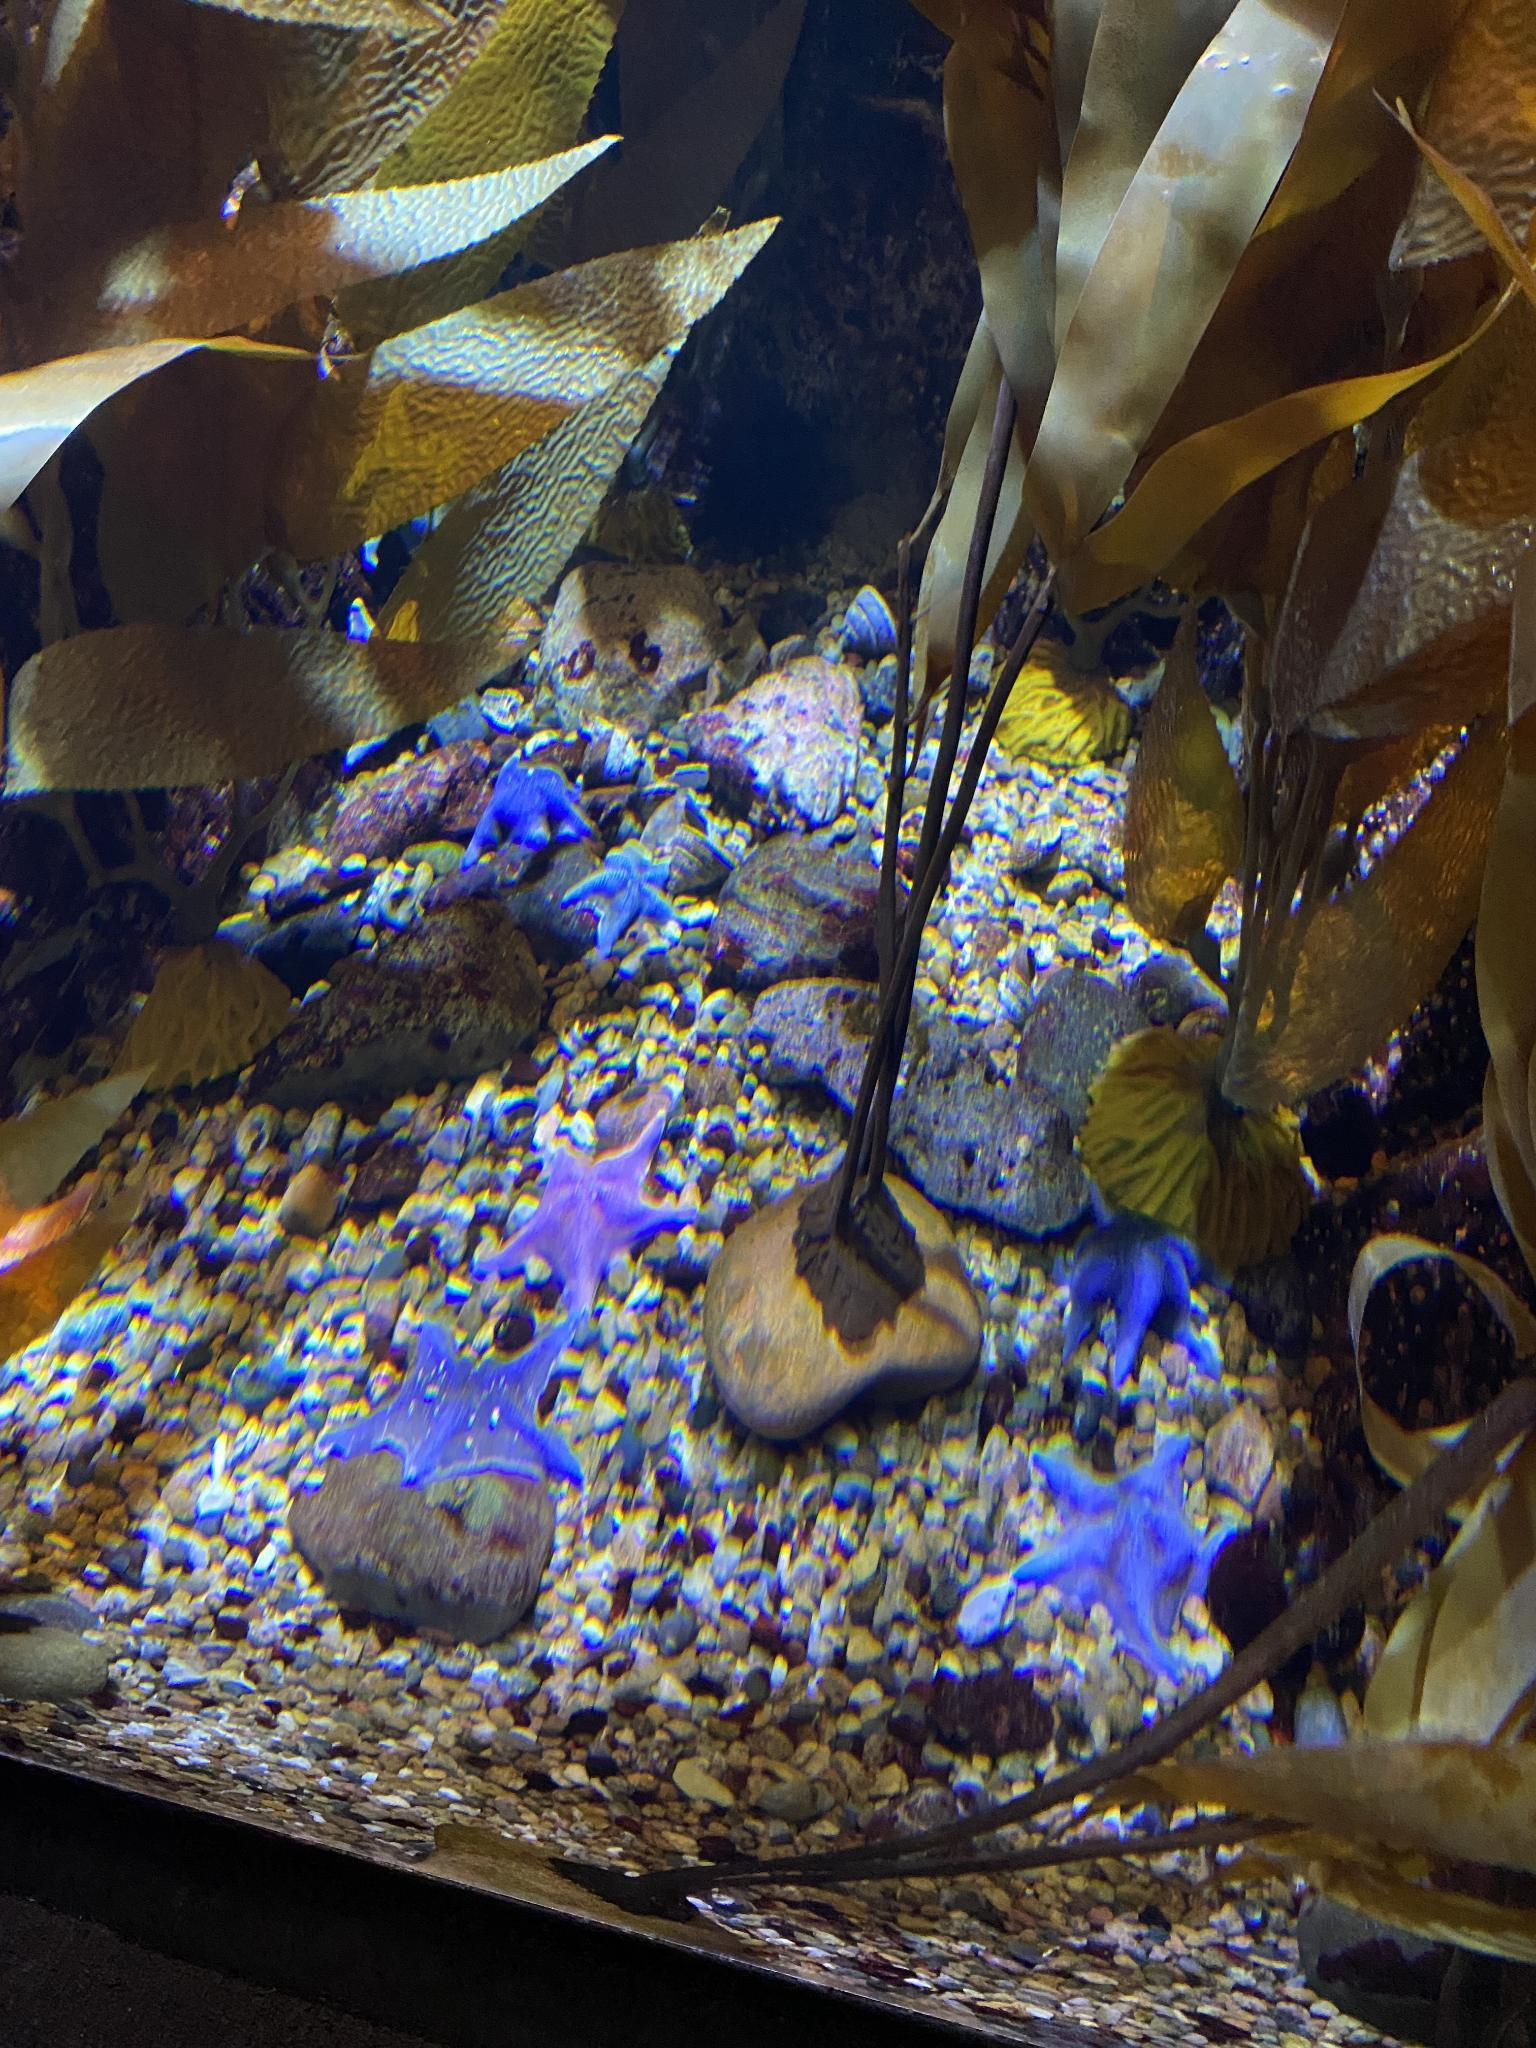starfish: (1012, 1424, 1233, 1696), (323, 1313, 600, 1496), (487, 1109, 699, 1322), (1062, 1190, 1234, 1397), (473, 748, 602, 874), (570, 842, 687, 951)
